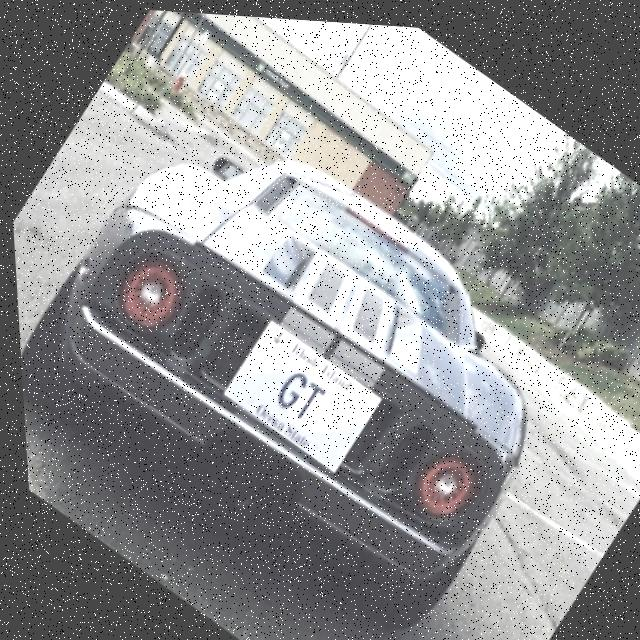license_plate: (216, 312, 380, 468)
